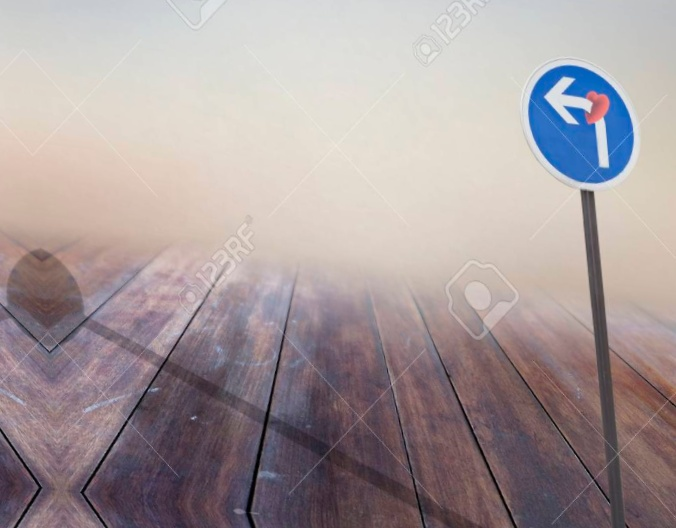Turn left: (511, 49, 655, 201)
